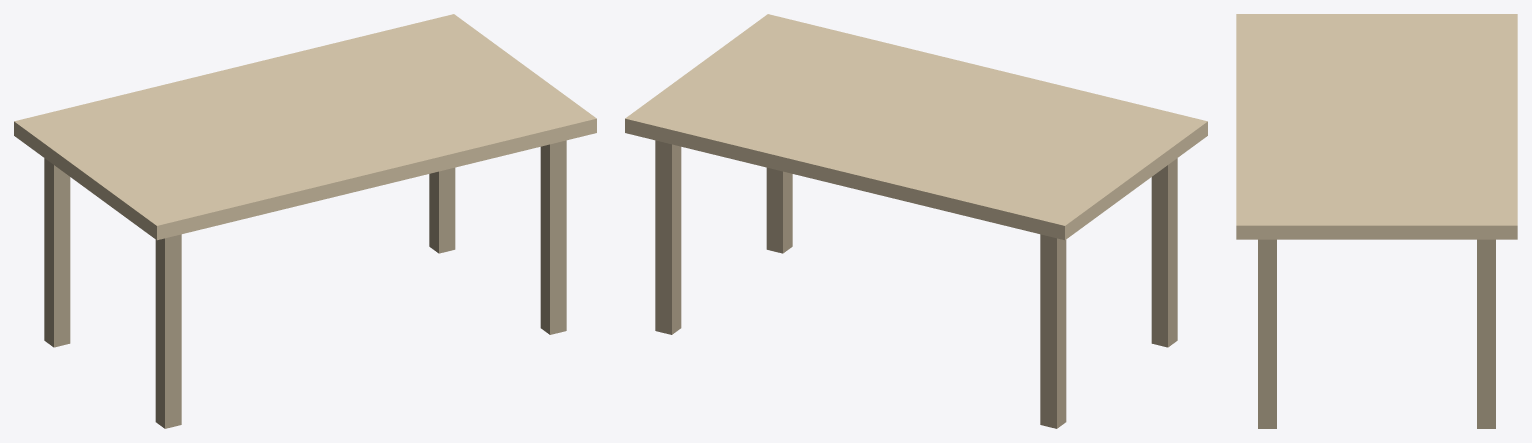
The model's file is mesa-jantar.glb.
3 views of the same model, side by side, from view 1: azimuth 30°, elevation 25°; view 2: azimuth 150°, elevation 25°; view 3: azimuth 270°, elevation 25° (orthographic).
Size of the model in its own units: 1.6 by 0.75 by 0.9.
